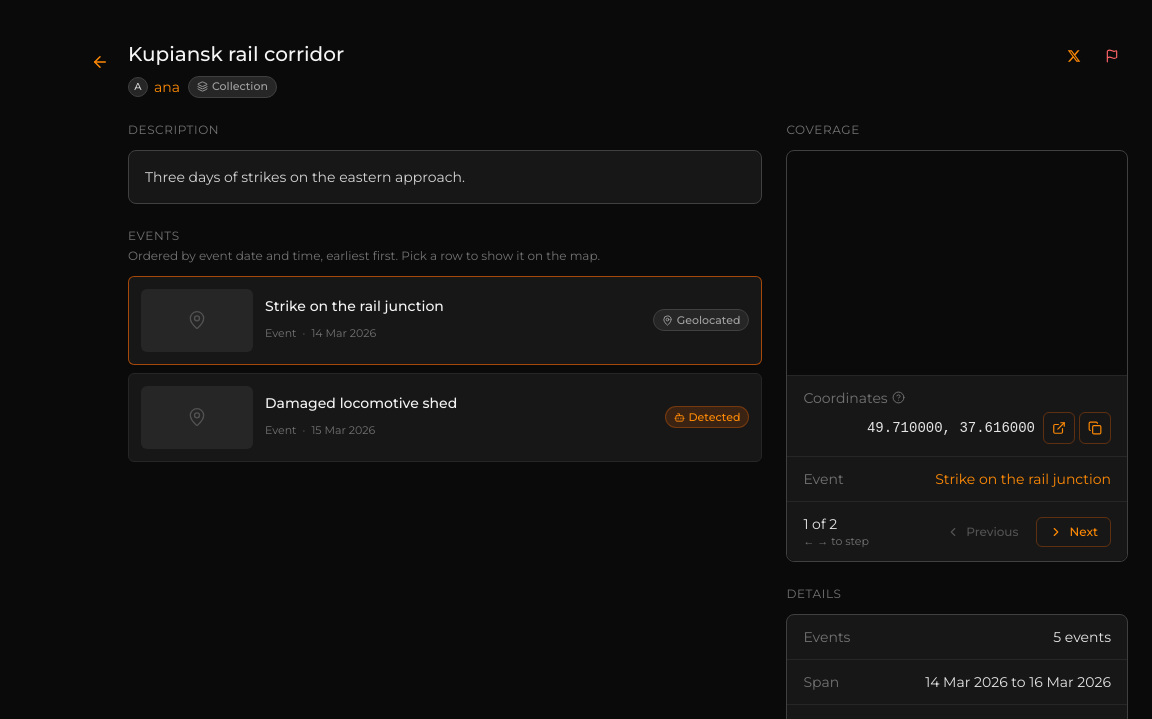
Test case: CollectionPage › reports the collection from the header, with no account
The image size is (1152, 719).
Expected: the heading "Kupiansk rail corridor" is shown, top-left (128, 42), bottom-right (344, 66)
Click the button named "Report" at {"x": 1112, "y": 56}, box top-left (1096, 40), bottom-right (1128, 72)
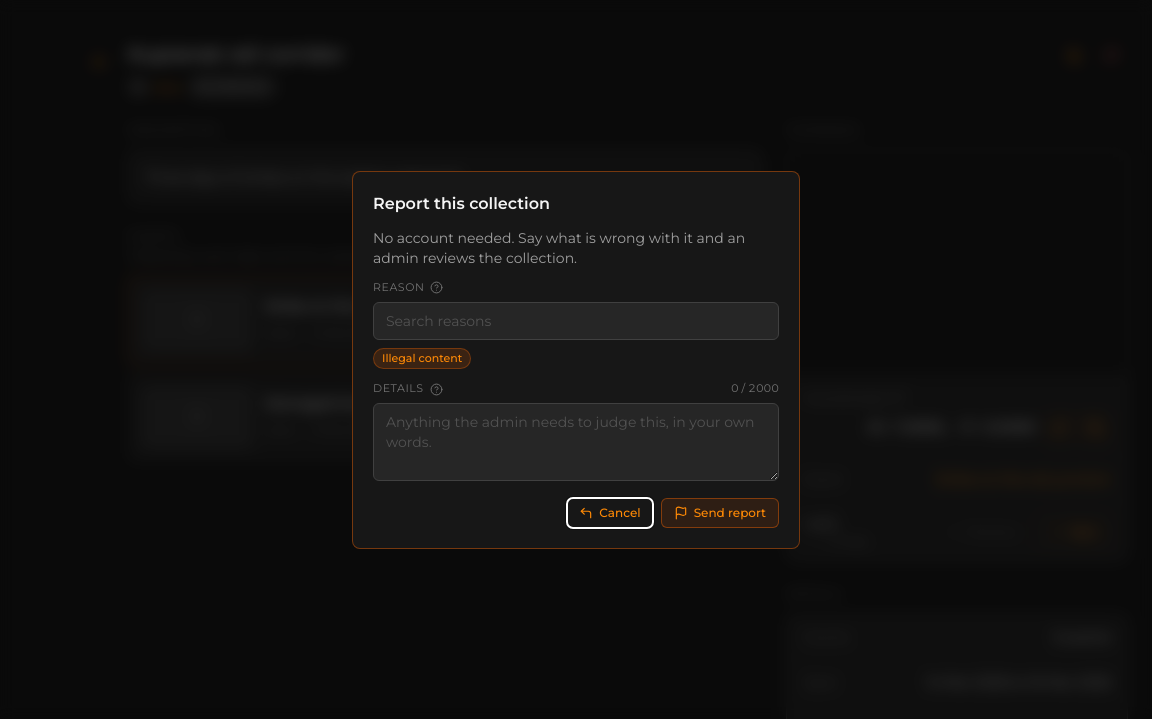
Now the heading "Report this collection" is shown, box top-left (373, 194), bottom-right (550, 213)
Focus the dropdown labelled "Reason" at {"x": 576, "y": 321}, box top-left (373, 302), bottom-right (779, 340)
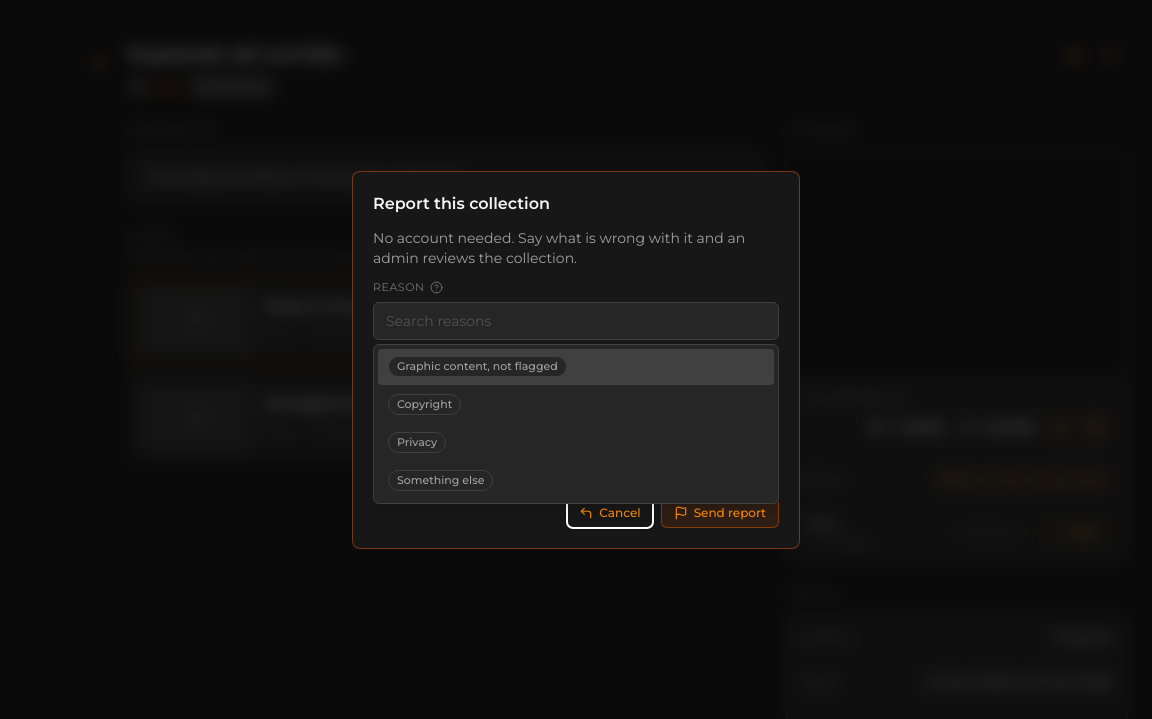
Click the option "Copyright" at {"x": 425, "y": 405}, box top-left (388, 394), bottom-right (461, 416)
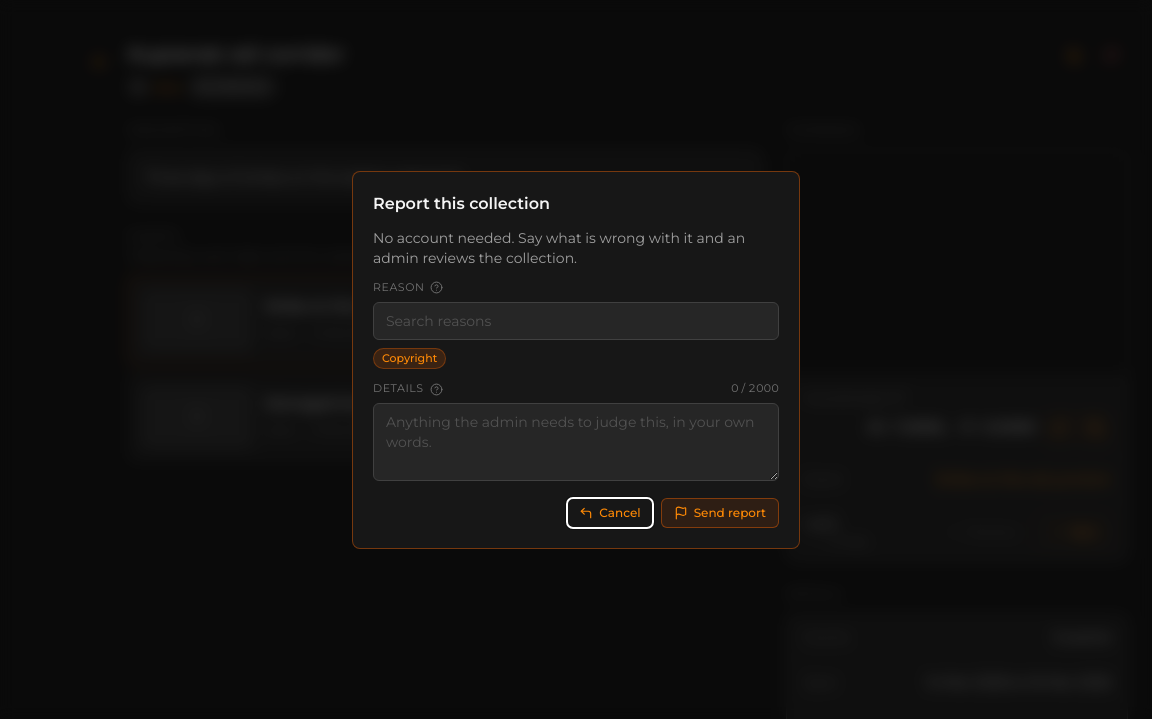
Click the button "Send report" at {"x": 720, "y": 513}, box top-left (661, 498), bottom-right (779, 528)
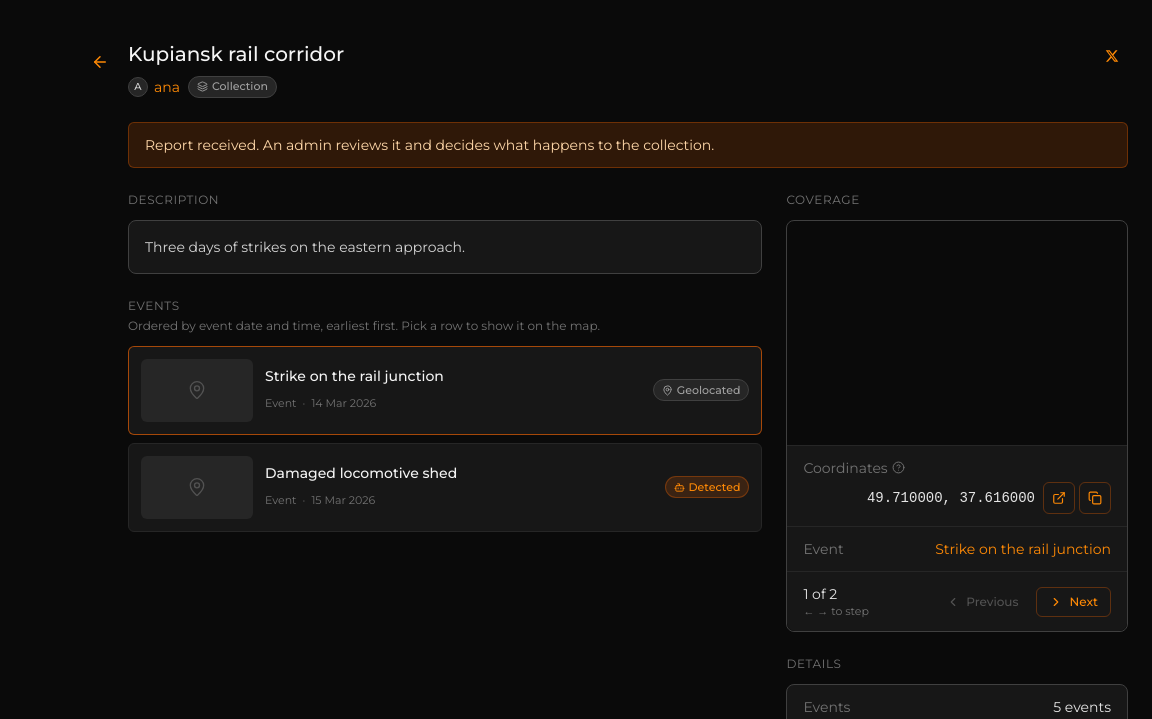
Now the message shows "Report received", box top-left (145, 136), bottom-right (640, 154)
